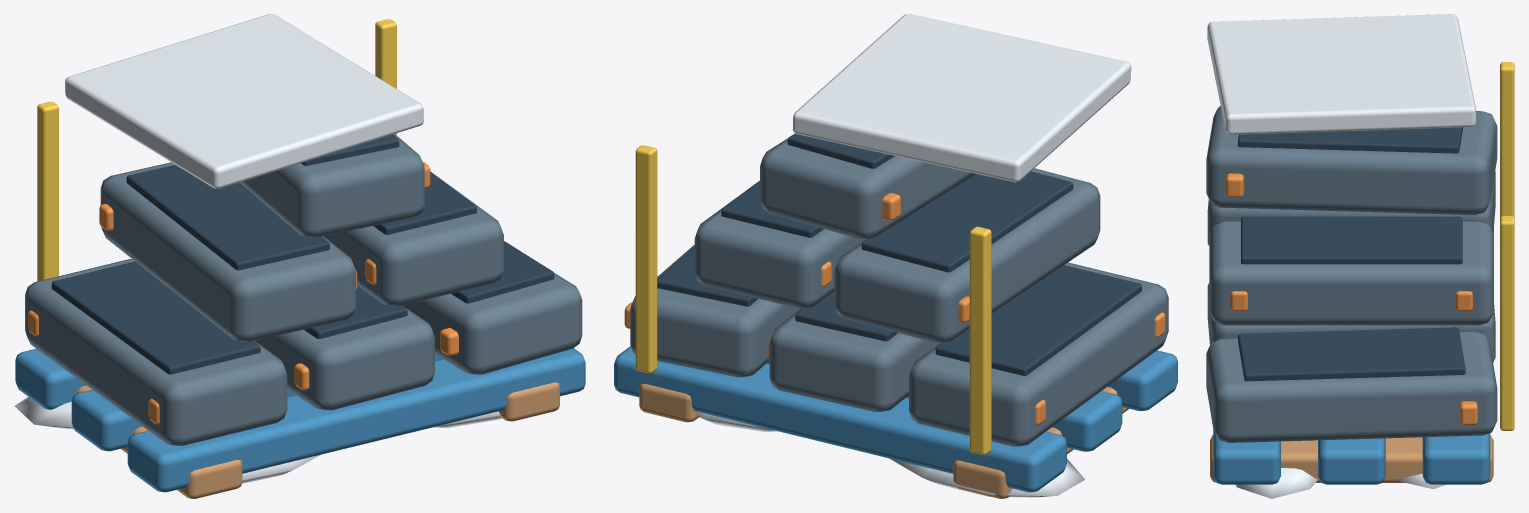
The model's file is metal_stack.glb.
3 views of the same model, side by side, from view 1: azimuth 30°, elevation 25°; view 2: azimuth 150°, elevation 25°; view 3: azimuth 270°, elevation 25° (orthographic). The views are drawn at different scales.
Parts seen in each view (by area): view 1: metal_stack; view 2: metal_stack; view 3: metal_stack.
Boxes of the visible parts, x1,y1,x2,y2 form: metal_stack: (14, 14, 585, 498); metal_stack: (614, 14, 1177, 498); metal_stack: (1206, 14, 1514, 498).
Size of the model in its own units: 1.49 by 1.07 by 0.9322.
